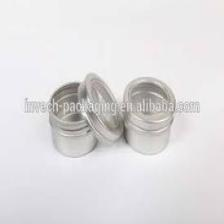metal: (43, 61, 118, 179), (124, 67, 178, 176)
